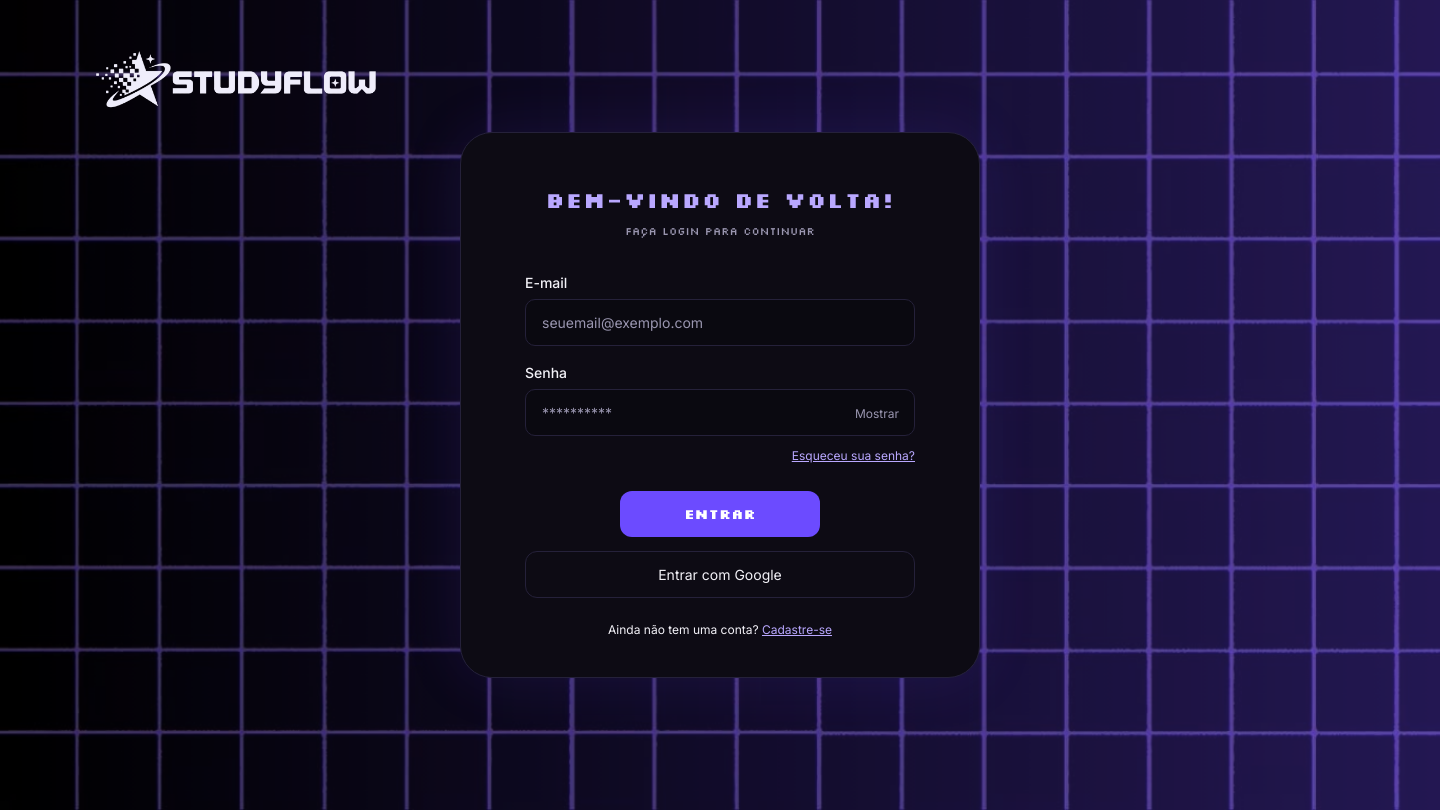
Scenario: LoginPage › rejeita e-mail inválido
The image size is (1440, 810).
Type "abc" into the field labelled "E-mail" at (720, 322), box left=525, top=299, right=915, bottom=346
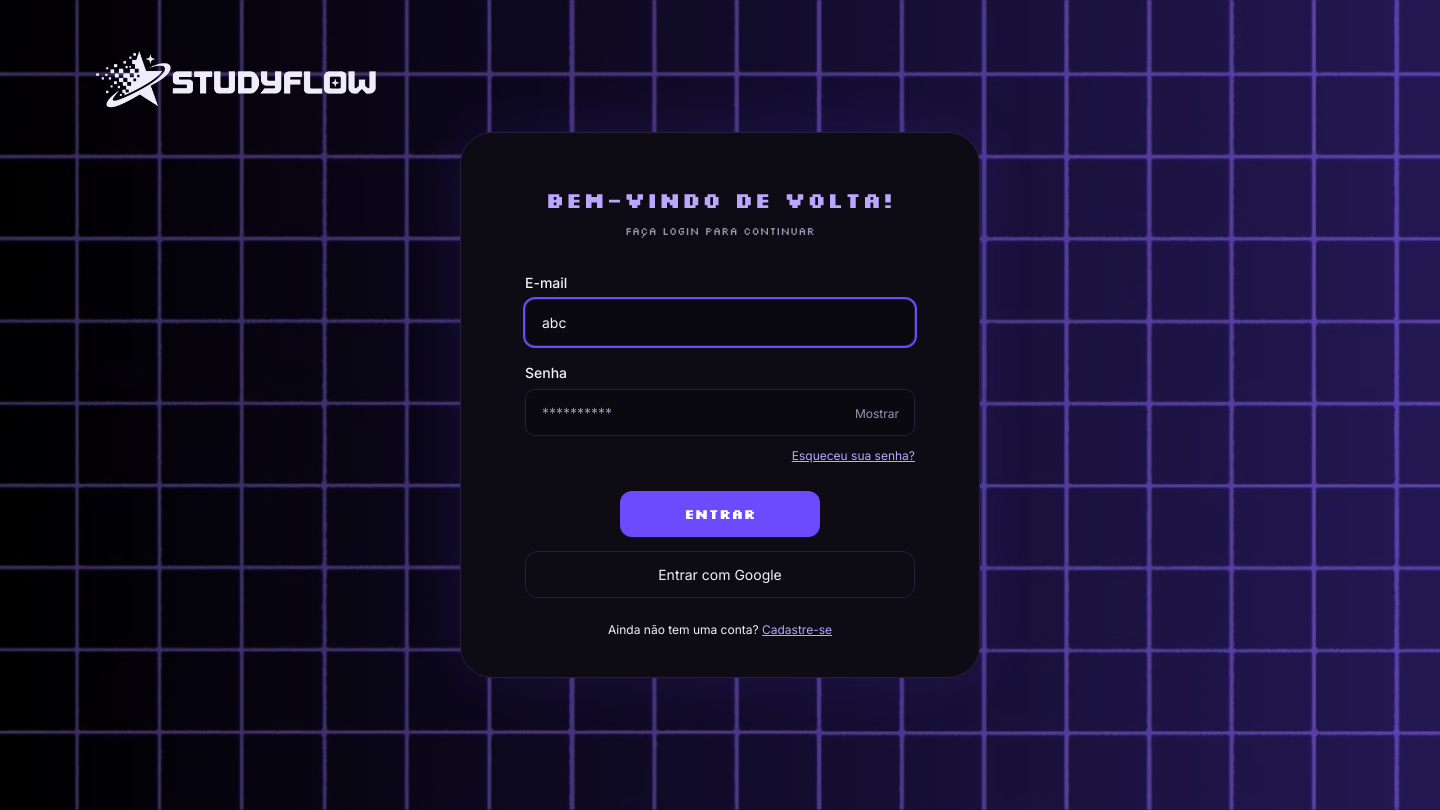
Type "123456" into the password field labelled "Senha" at (720, 412), box left=525, top=389, right=915, bottom=436
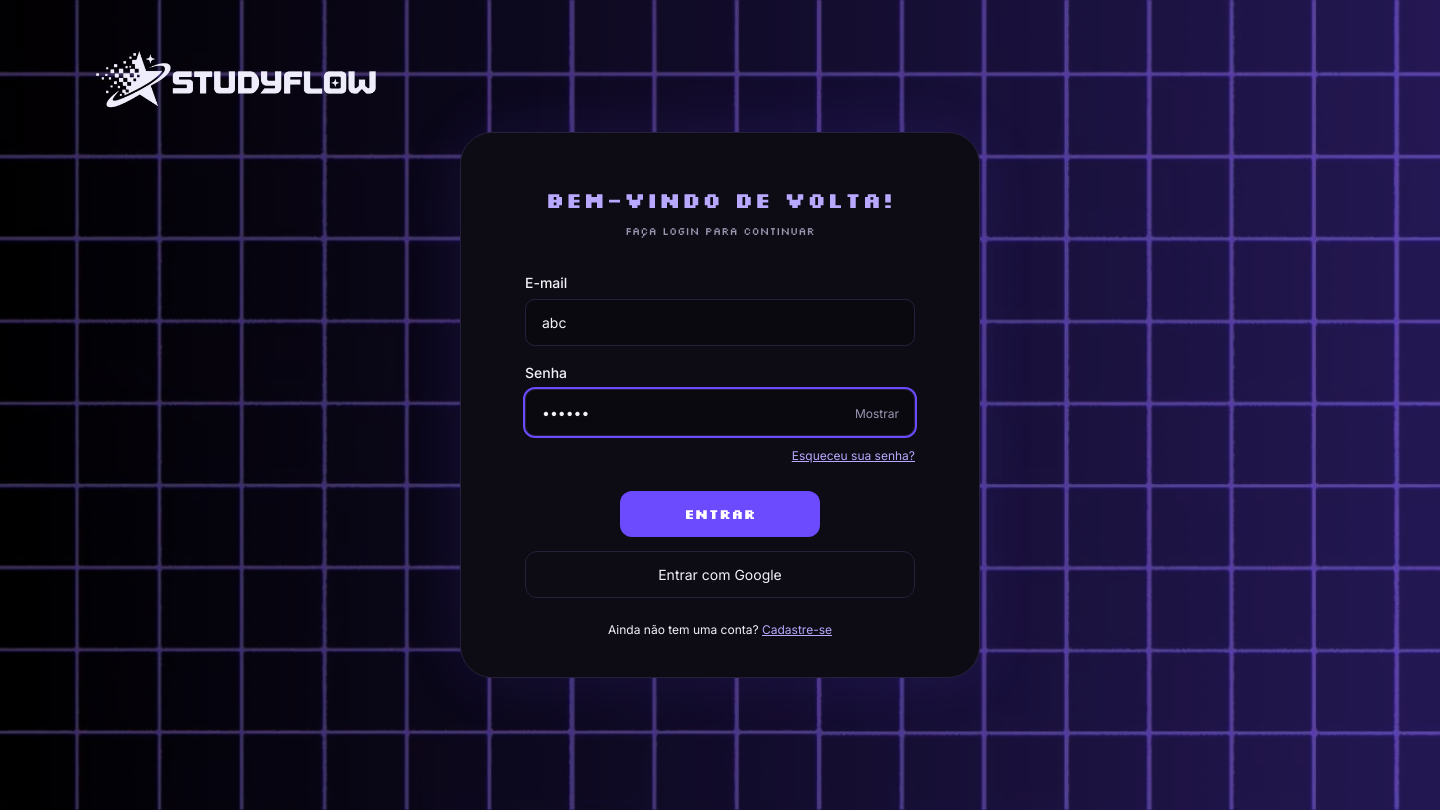
Click the button "Entrar" at (720, 514), box left=620, top=491, right=820, bottom=537
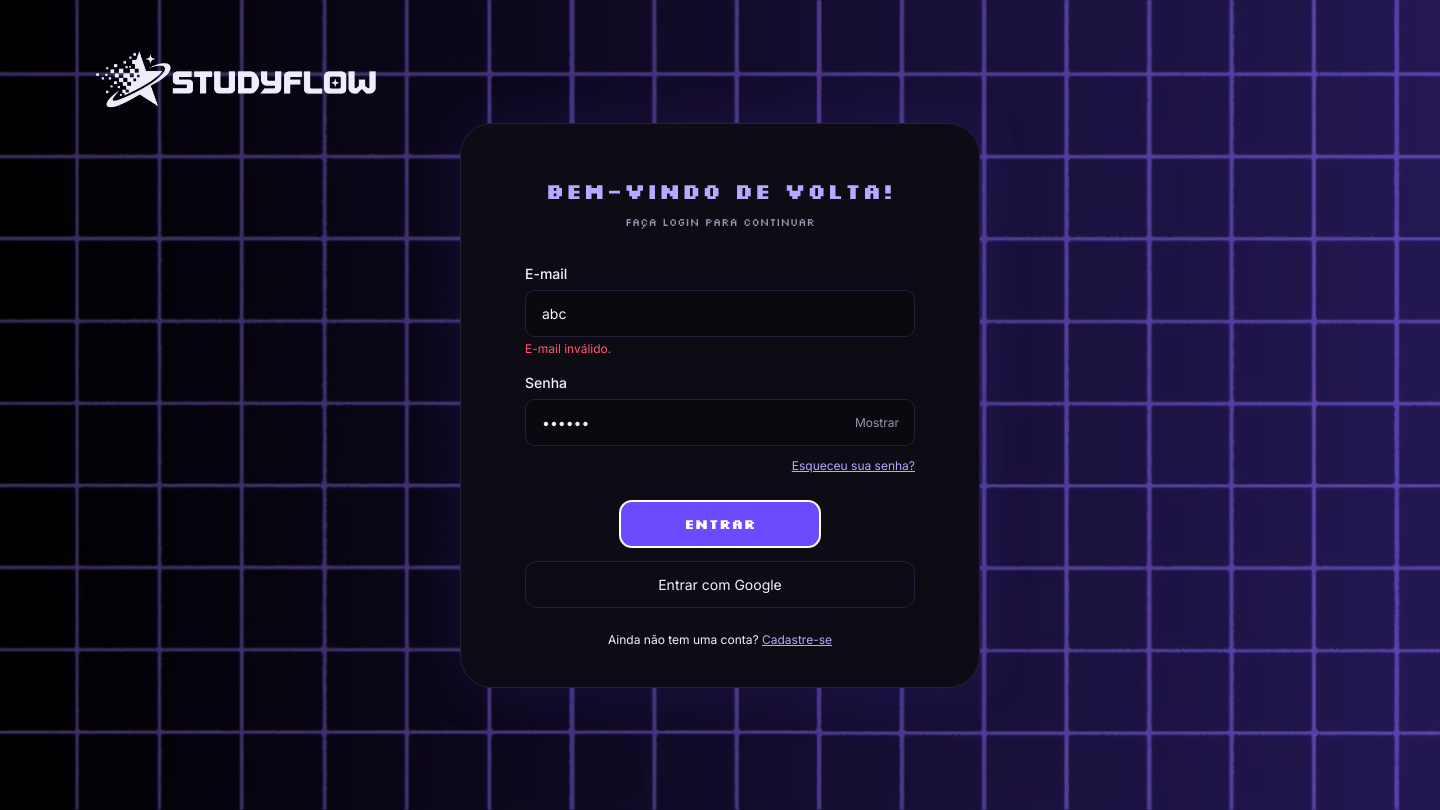
Result: the text "E-mail inválido." is shown at left=525, top=340, right=611, bottom=356
